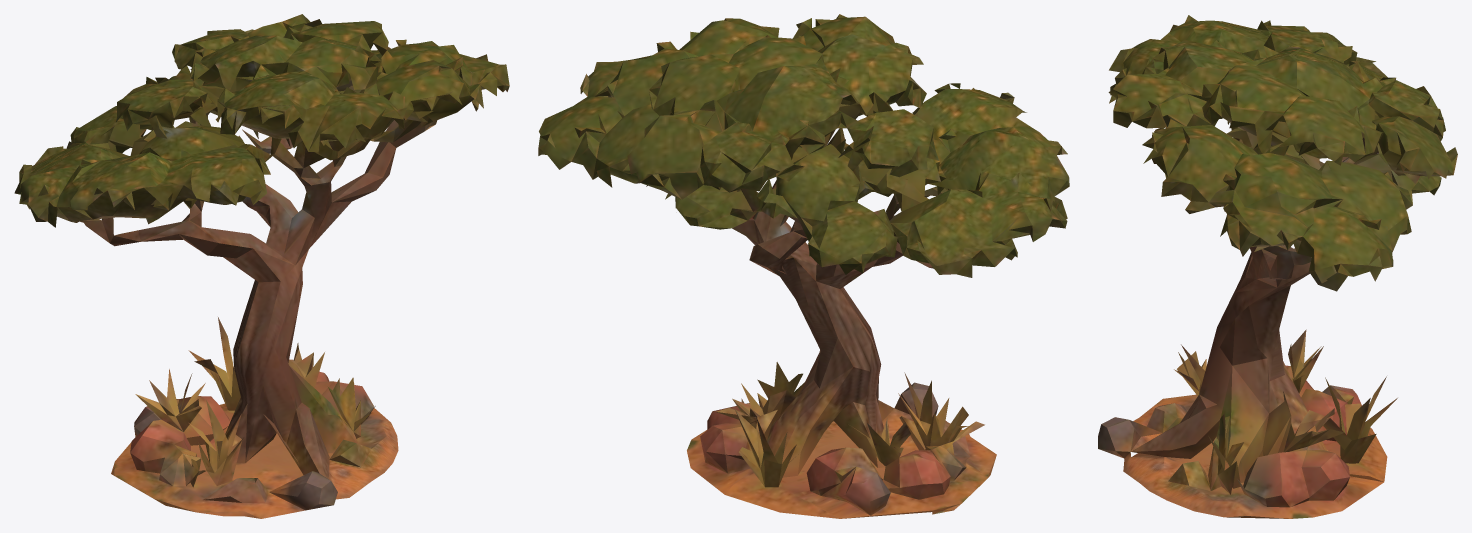
The model's file is tree_01.glb.
The picture shows the model from 3 angles, left to right: view 1: azimuth 30°, elevation 25°; view 2: azimuth 150°, elevation 25°; view 3: azimuth 270°, elevation 25°; orthographic projection. The views are drawn at different scales.
Visible parts, largest first — view 1: tree_01; view 2: tree_01; view 3: tree_01.
Boxes of the visible parts, x1=… form: tree_01: x1=14, y1=14, x2=509, y2=518; tree_01: x1=538, y1=14, x2=1069, y2=518; tree_01: x1=1098, y1=15, x2=1457, y2=518.
Size of the model in its own units: 8.54 by 6.8 by 5.35.
Materials: 1 (1 with a texture image).
